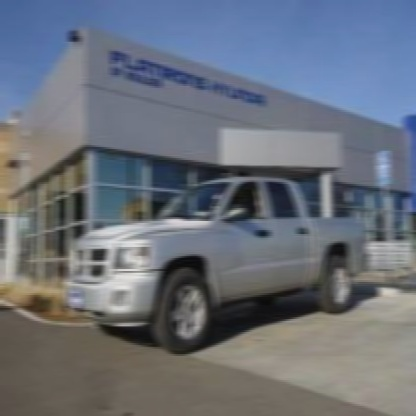Vehicle: (69, 178, 367, 352)
